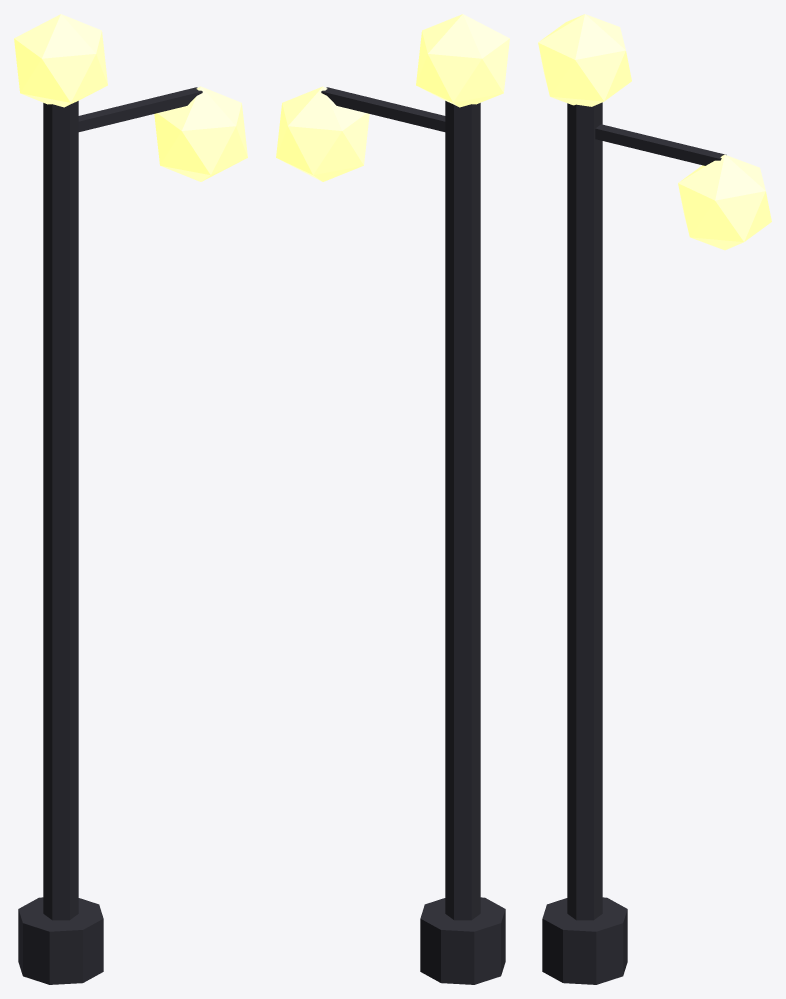
The model's file is park_lamp.glb.
The picture shows the model from 3 angles, left to right: view 1: azimuth 30°, elevation 25°; view 2: azimuth 150°, elevation 25°; view 3: azimuth 330°, elevation 25°; orthographic projection.
Parts seen in each view (by area): view 1: park_lamp; view 2: park_lamp; view 3: park_lamp.
Part boxes in pixels (left/top/right/bottom): park_lamp: left=14, top=14, right=247, bottom=984; park_lamp: left=276, top=14, right=509, bottom=984; park_lamp: left=538, top=14, right=771, bottom=984.
Size of the model in its own units: 0.872 by 3.58 by 0.3062.
